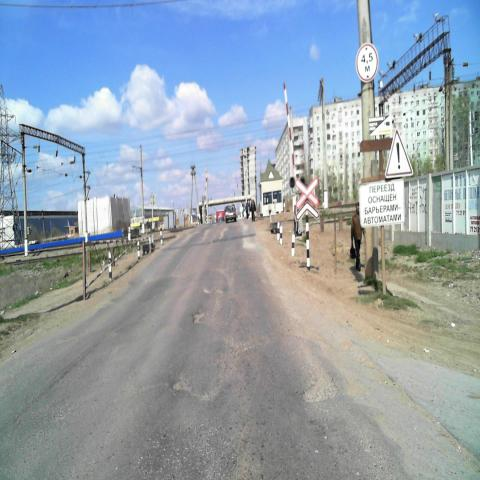1_33: (384, 126, 414, 180)
3_13: (355, 45, 378, 84)
